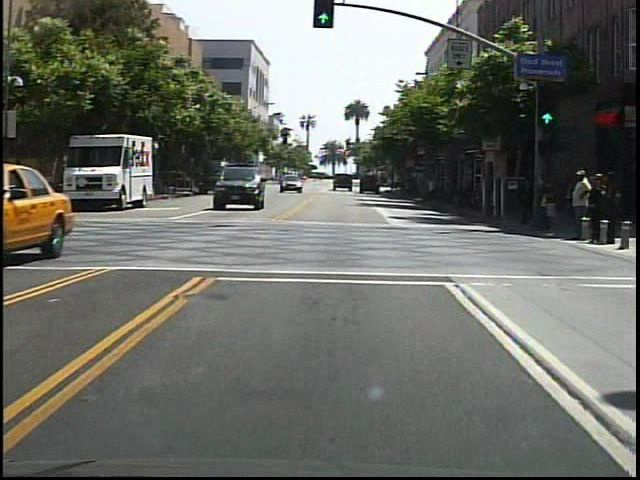person: (562, 166, 593, 244), (515, 162, 535, 229)
